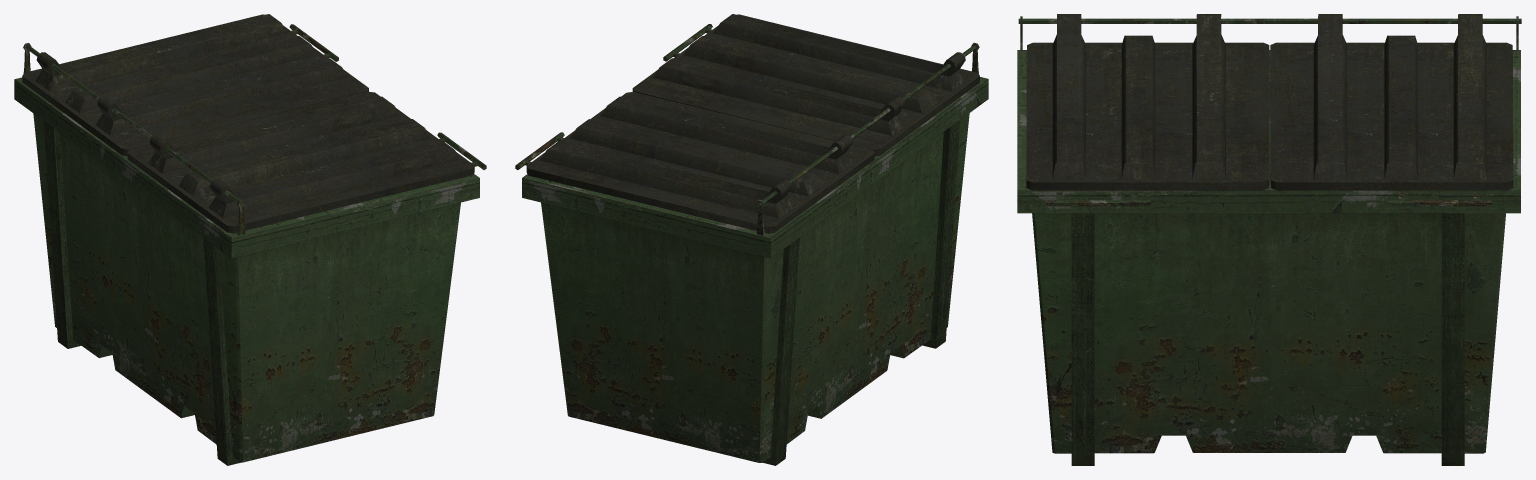
Rendered from dumpster_green.glb.
3 views of the same model, side by side, from view 1: azimuth 30°, elevation 25°; view 2: azimuth 150°, elevation 25°; view 3: azimuth 270°, elevation 25° (orthographic). The views are drawn at different scales.
Visible parts, largest first — view 1: prop; view 2: prop; view 3: prop.
Boxes of the visible parts, x1,y1,x2,y2 form: prop: [14, 14, 486, 465]; prop: [515, 14, 988, 465]; prop: [1017, 14, 1521, 465].
Size of the model in its own units: 1.19 by 1.22 by 1.68.
1 material, 1 textured.
